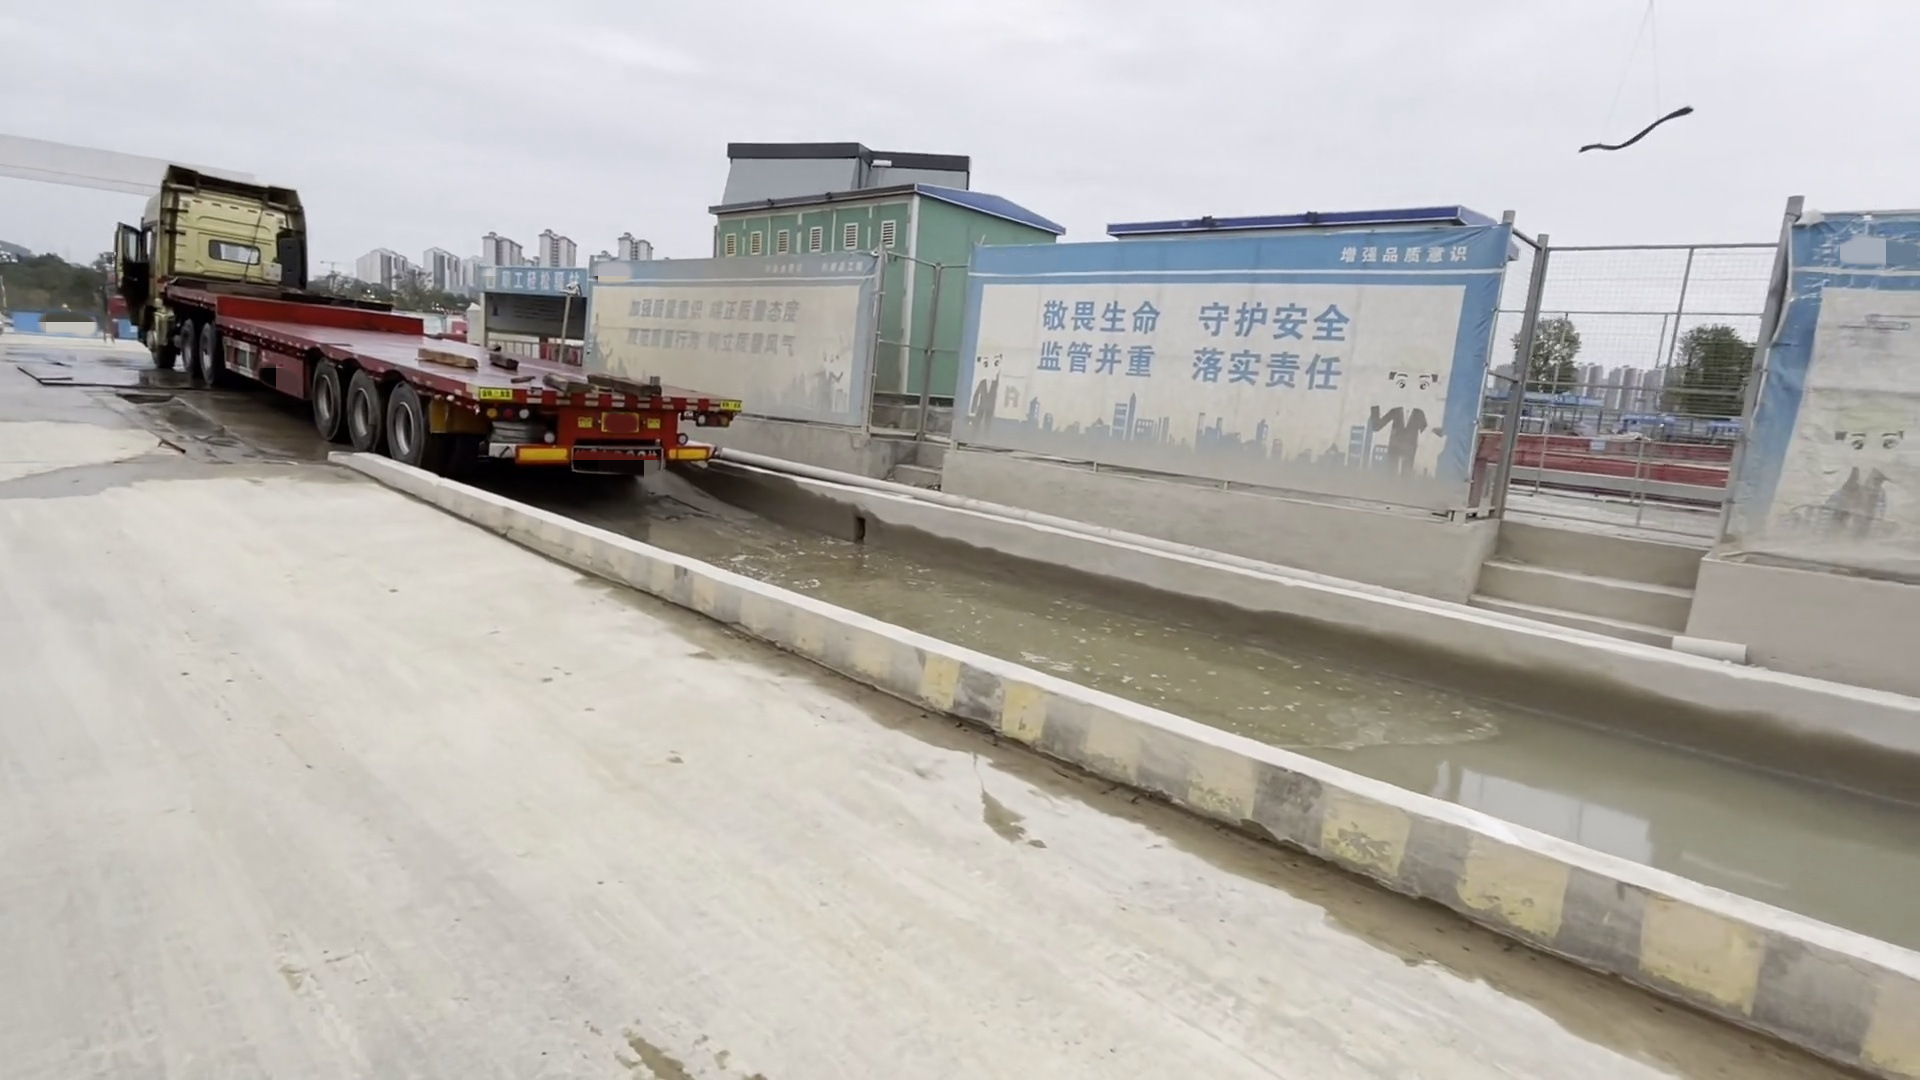slogan: (1025, 297, 1358, 415), (622, 294, 811, 367), (1333, 239, 1478, 272), (765, 261, 864, 276)
